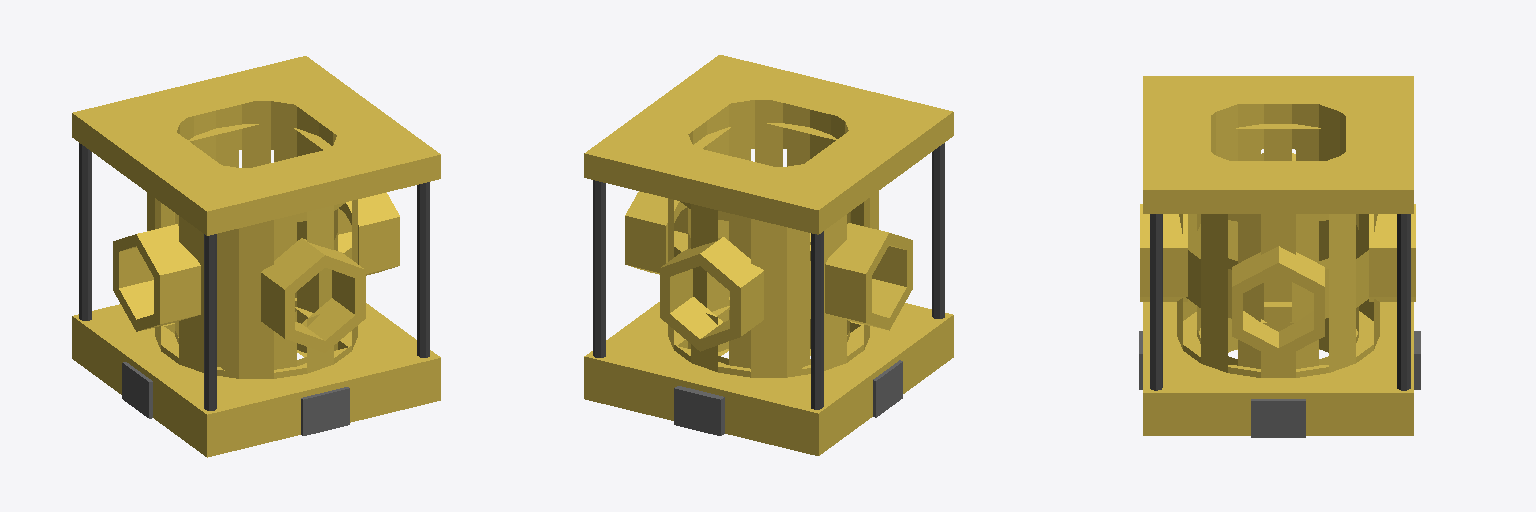
File: Elevator.obj
The picture shows the model from 3 angles: view 1: azimuth 30°, elevation 25°; view 2: azimuth 150°, elevation 25°; view 3: azimuth 270°, elevation 25°; orthographic projection.
Parts seen in each view (by area): view 1: Box011, Box010, Tube001, Tube005, Tube002, Tube003, Cylinder004, Cylinder003, Cylinder001, Box006, Box008; view 2: Box011, Box010, Tube001, Tube004, Tube002, Tube003, Cylinder002, Cylinder001, Cylinder004, Box007, Box008; view 3: Box011, Tube001, Box010, Tube003, Tube005, Tube004, Cylinder002, Cylinder003, Box009.
Boxes of the visible parts, box(x1,y1,x2,y2) form: Box011: box(72, 56, 440, 235); Box010: box(72, 298, 440, 457); Tube001: box(155, 95, 357, 378); Tube005: box(261, 238, 365, 352); Tube002: box(113, 224, 200, 331); Tube003: box(338, 192, 399, 275); Cylinder004: box(204, 234, 216, 410); Cylinder003: box(417, 182, 429, 357); Cylinder001: box(79, 143, 91, 320); Box006: box(301, 387, 349, 435); Box008: box(122, 362, 152, 418); Box011: box(584, 55, 953, 234); Box010: box(584, 297, 953, 455); Tube001: box(668, 93, 869, 377); Tube004: box(660, 237, 763, 351); Tube002: box(825, 223, 912, 330); Tube003: box(625, 191, 687, 274); Cylinder002: box(593, 180, 605, 357); Cylinder001: box(811, 231, 823, 409); Cylinder004: box(932, 143, 944, 318); Box007: box(674, 386, 724, 435); Box008: box(873, 360, 902, 417); Box011: box(1143, 76, 1413, 213); Tube001: box(1177, 104, 1379, 377); Box010: box(1143, 302, 1413, 435); Tube003: box(1232, 246, 1324, 360); Tube005: box(1140, 204, 1187, 301); Tube004: box(1369, 204, 1415, 301); Cylinder002: box(1397, 214, 1410, 390); Cylinder003: box(1150, 214, 1162, 390); Box009: box(1251, 399, 1305, 437).
Bounding box in the file's own units: 41.36 × 40.17 × 41.87.